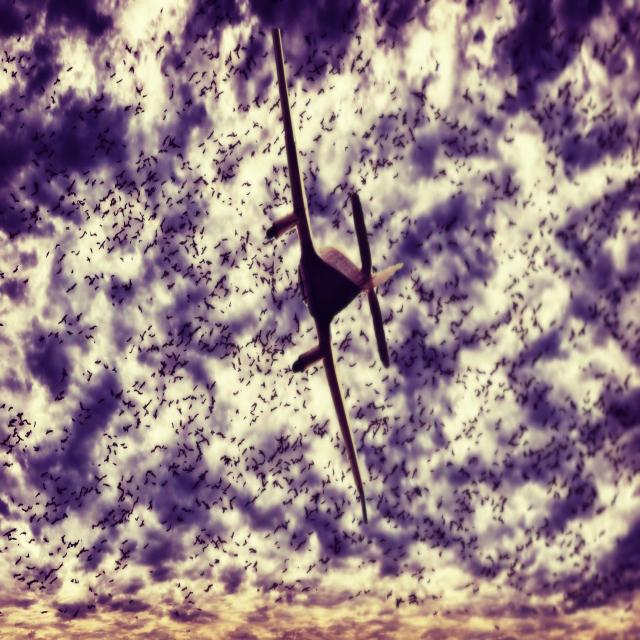airplane: (264, 26, 404, 524)
